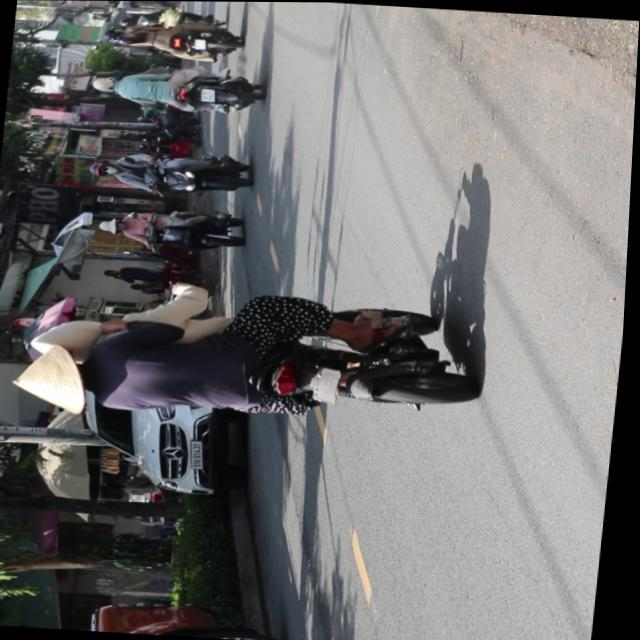helmet: (29, 315, 124, 361), (87, 163, 119, 179), (91, 78, 117, 93)
licenseplate: (0, 274, 491, 439), (87, 63, 266, 119), (85, 147, 255, 201), (96, 204, 248, 255)
motorcyclist: (13, 345, 100, 416), (98, 217, 128, 234)
nohelmet: (312, 367, 343, 401), (199, 89, 215, 102)
